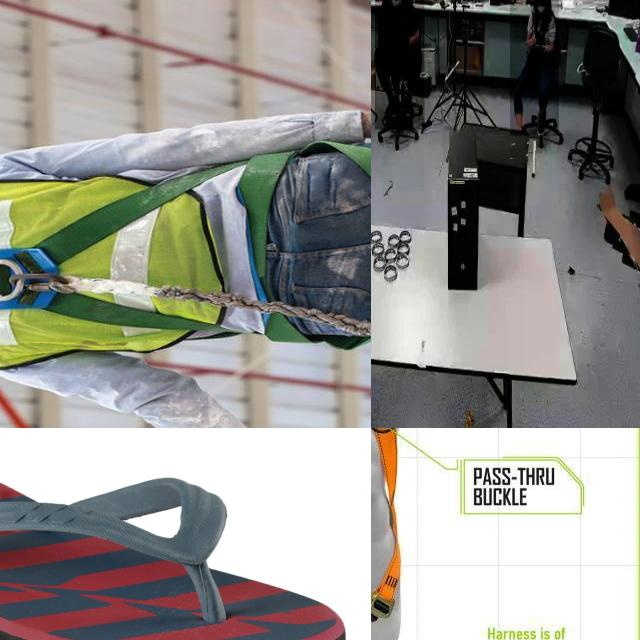Harness: (0, 130, 341, 390)
Sandals: (0, 463, 347, 640)
face_mask: (536, 0, 548, 20)
person: (510, 0, 559, 136), (375, 0, 425, 130)
shoes: (532, 105, 550, 138), (382, 96, 399, 123), (399, 96, 417, 120)
